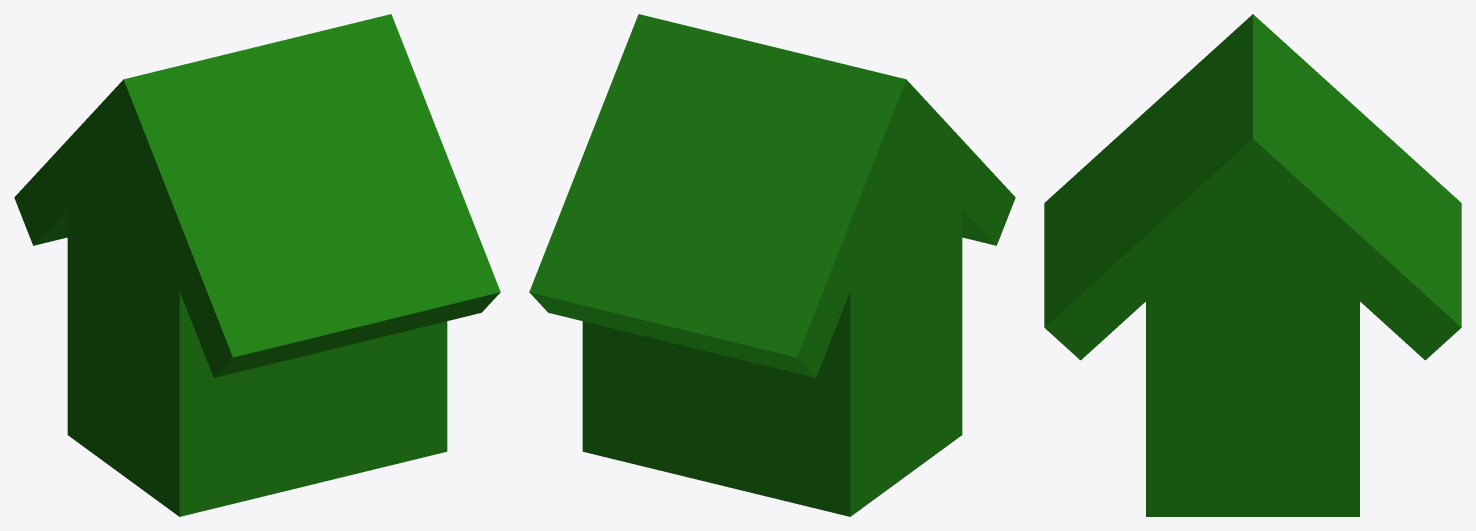
File: maison1.glb
The picture shows the model from 3 angles, left to right: view 1: azimuth 30°, elevation 25°; view 2: azimuth 150°, elevation 25°; view 3: azimuth 270°, elevation 25°; orthographic projection. The views are drawn at different scales.
Parts seen in each view (by area): view 1: Cube; view 2: Cube; view 3: Cube.
Boxes of the visible parts, box(x1,y1,x2,y2) form: Cube: box(14, 14, 500, 516); Cube: box(529, 14, 1015, 516); Cube: box(1044, 14, 1461, 516).
Size of the model in its own units: 0.3158 by 0.4469 by 0.4467.
